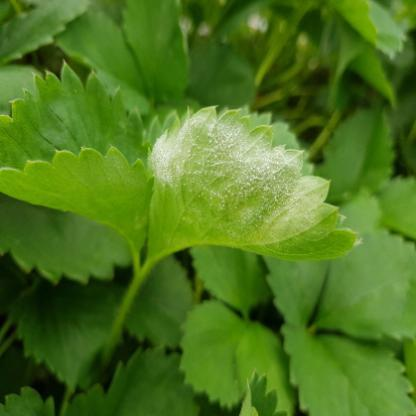Strawberry_Powdery_Mildew_Leaf: (148, 104, 362, 263)
